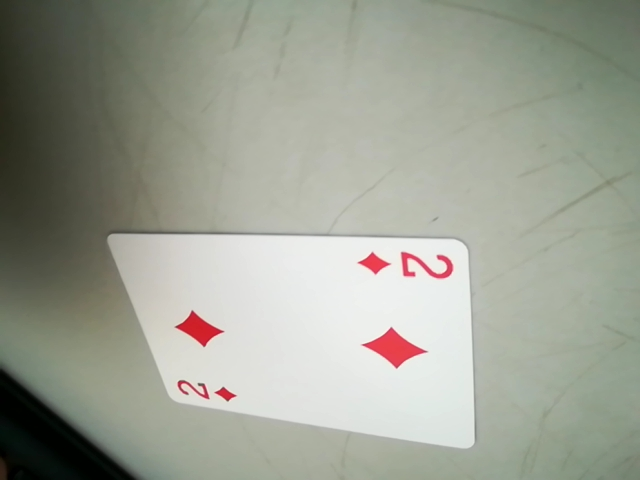fk 2: (357, 246, 460, 288), (168, 374, 246, 408)
